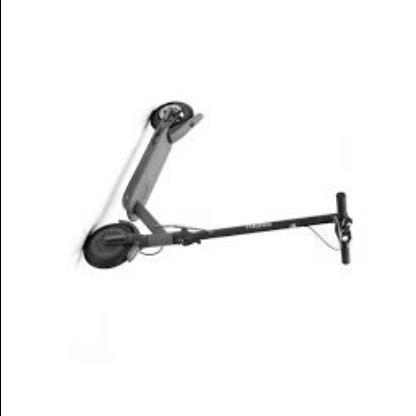bike: (81, 100, 354, 271)
